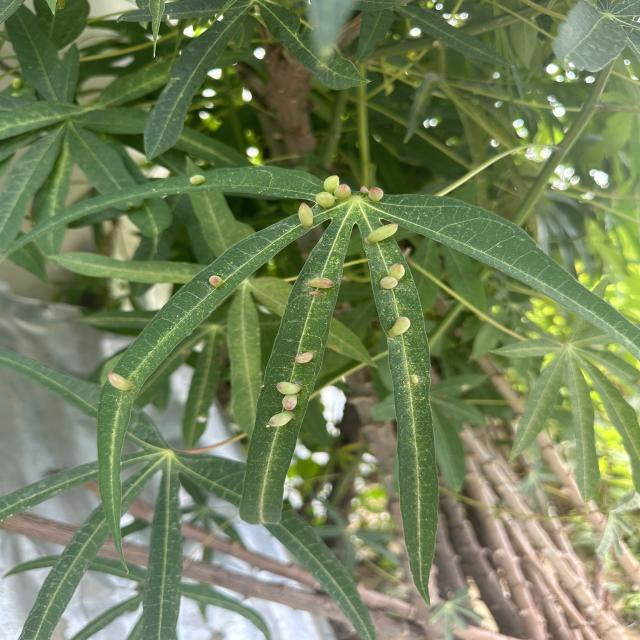Mosca: (295, 161, 394, 210), (266, 367, 295, 434), (280, 185, 316, 235), (386, 257, 424, 296), (294, 336, 324, 381), (360, 224, 405, 254), (187, 151, 227, 184), (4, 68, 35, 109), (298, 268, 339, 298), (98, 368, 129, 406), (394, 309, 431, 335), (200, 265, 224, 292)
